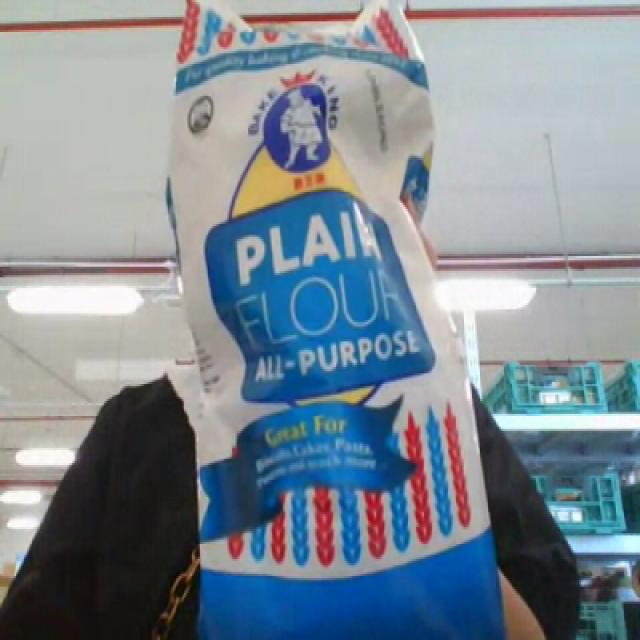object_name: (170, 7, 489, 640)
